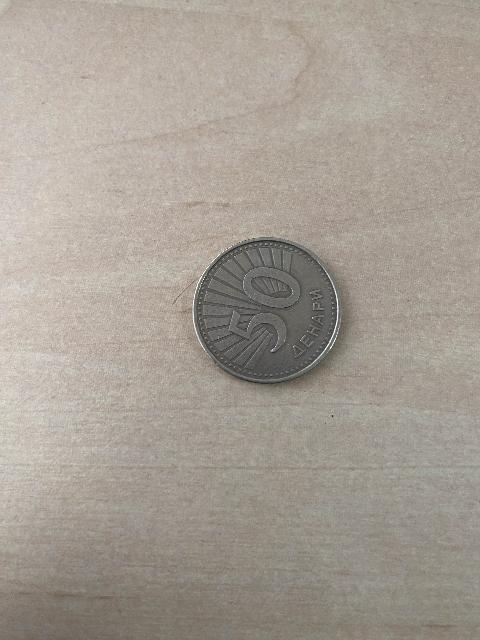50_coin: (194, 238, 343, 382)
